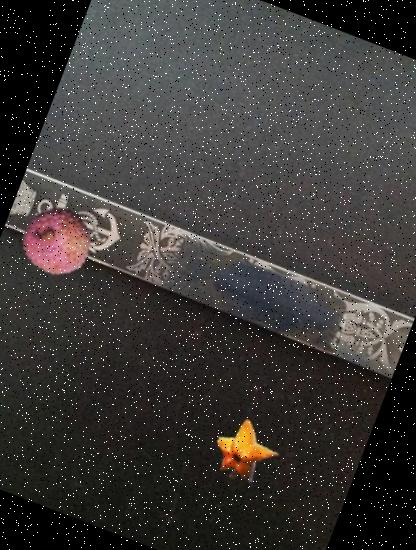Carambula: (204, 414, 283, 492)
Lychee: (12, 196, 102, 286)
